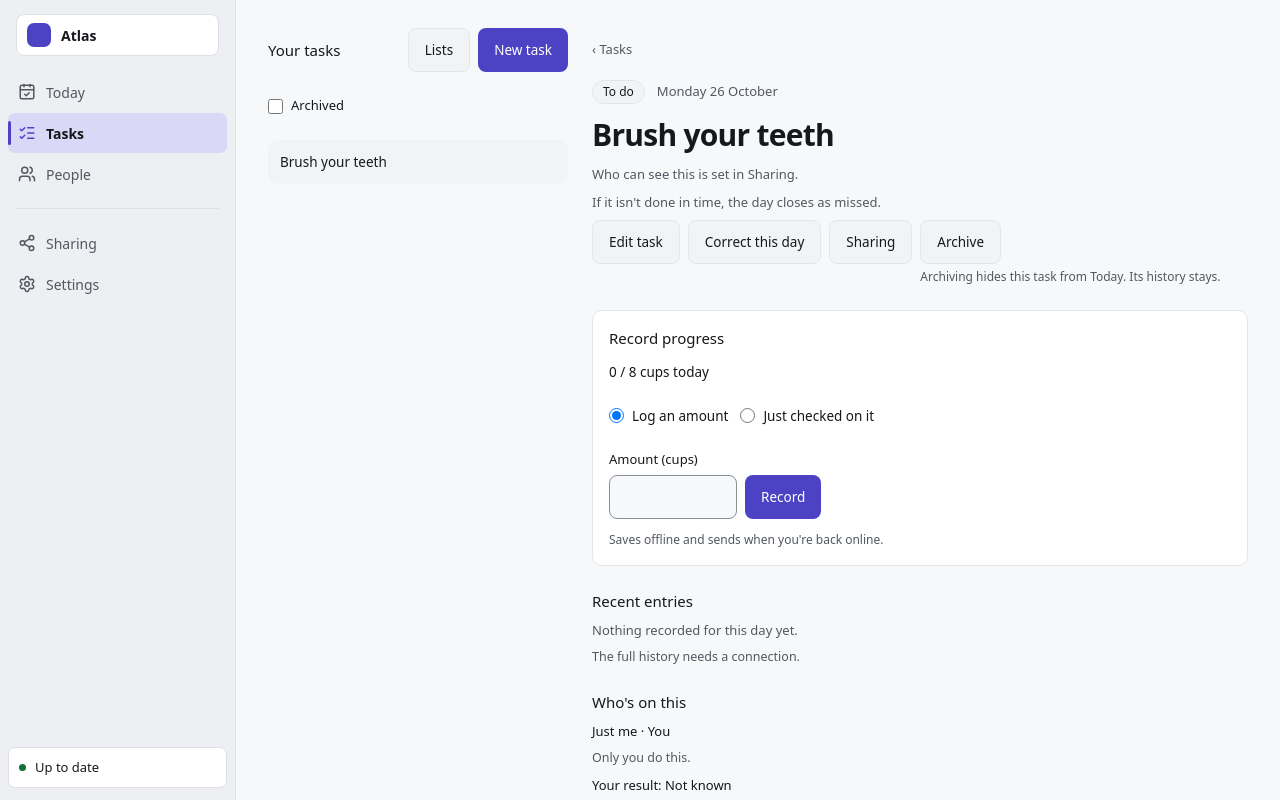
it: the correction dialog (WF-TASK-03; A14) › Save correction queues a revise_occurrence with the full definition and participation unchanged
The image size is (1280, 800).
Click the button "Correct this day": (755, 242) [688, 220, 821, 264]
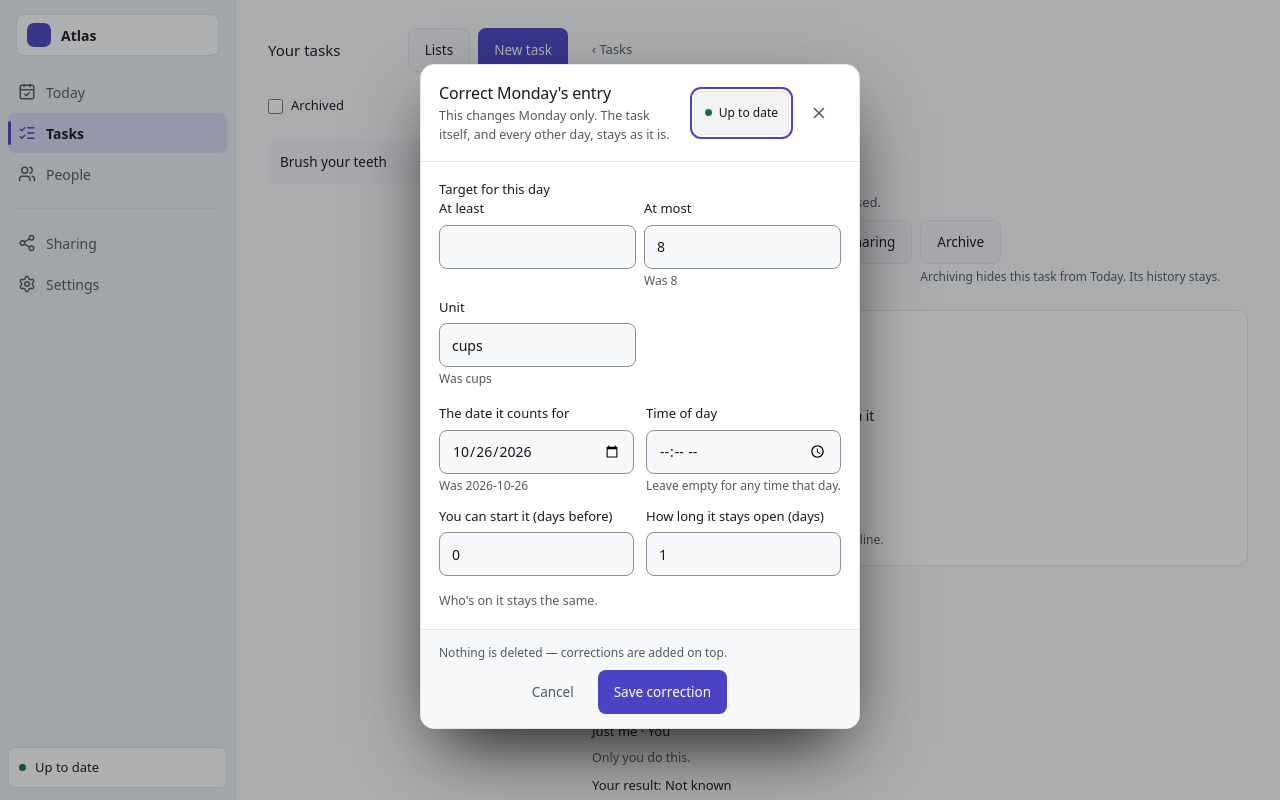
Replace the text in the field labelled "At most" with "2": (742, 246) [644, 224, 841, 268]
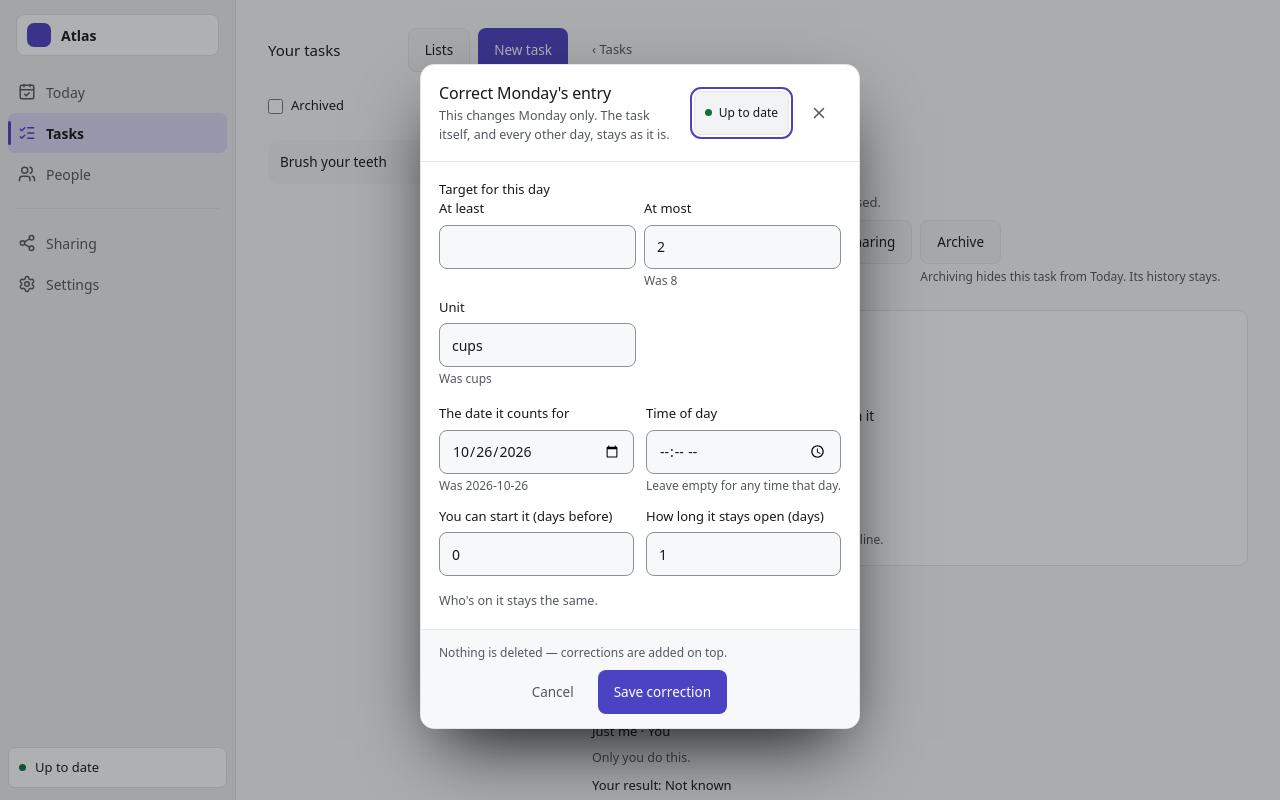
Click the button "Save correction": (662, 692) [598, 670, 727, 714]
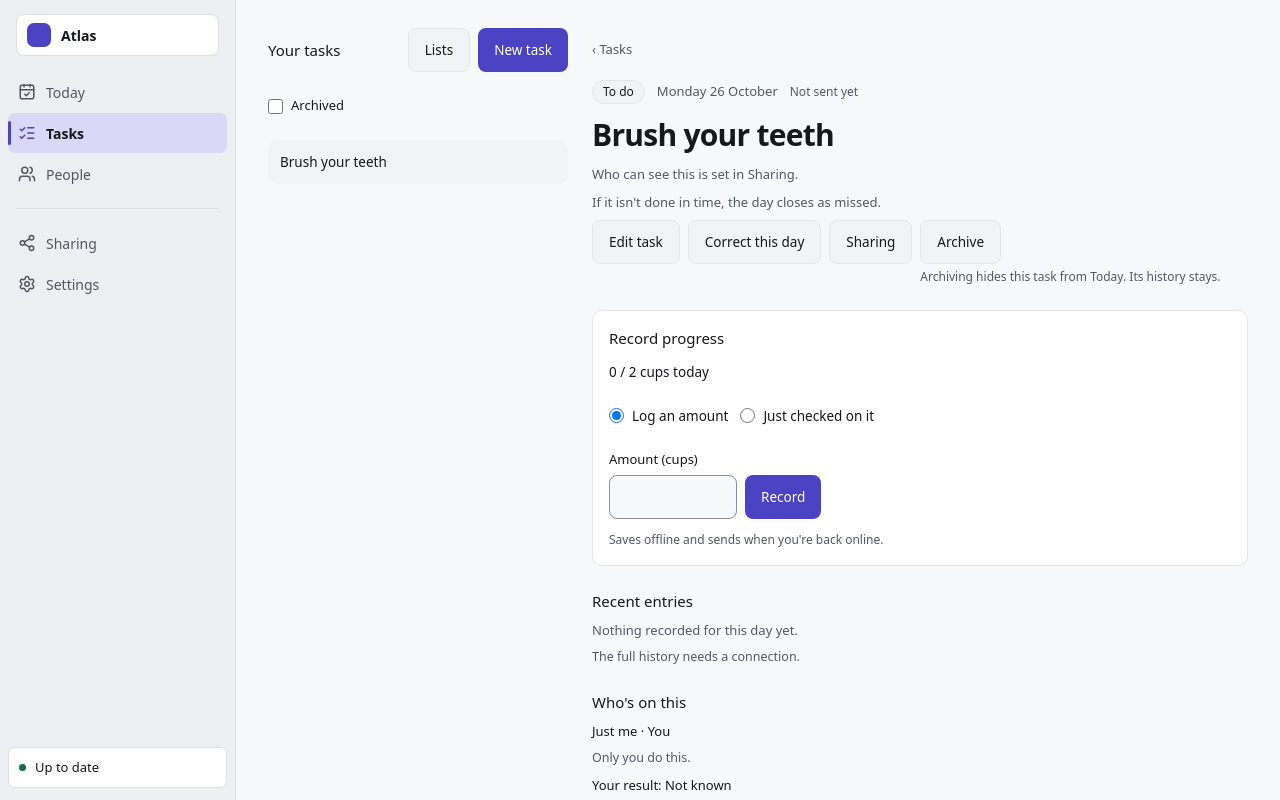
Expected: the dialog is gone
